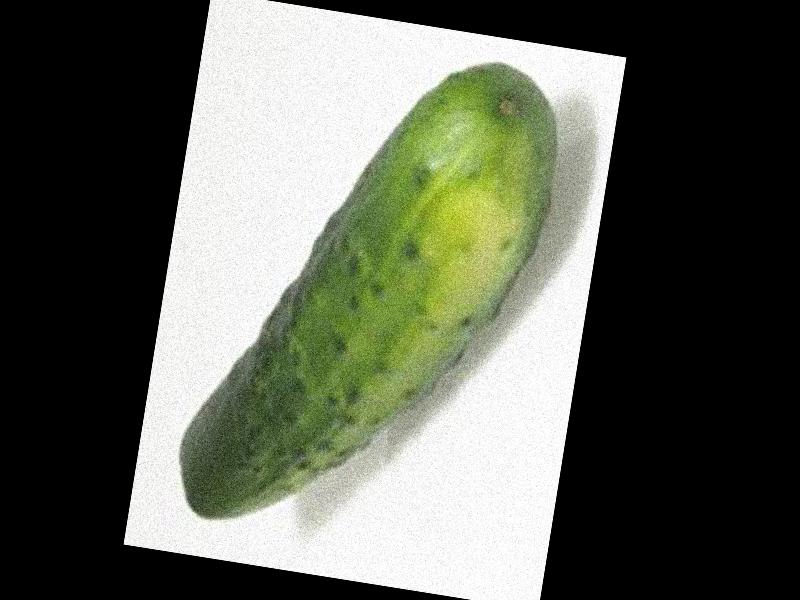Cucumber: (170, 26, 566, 564)
